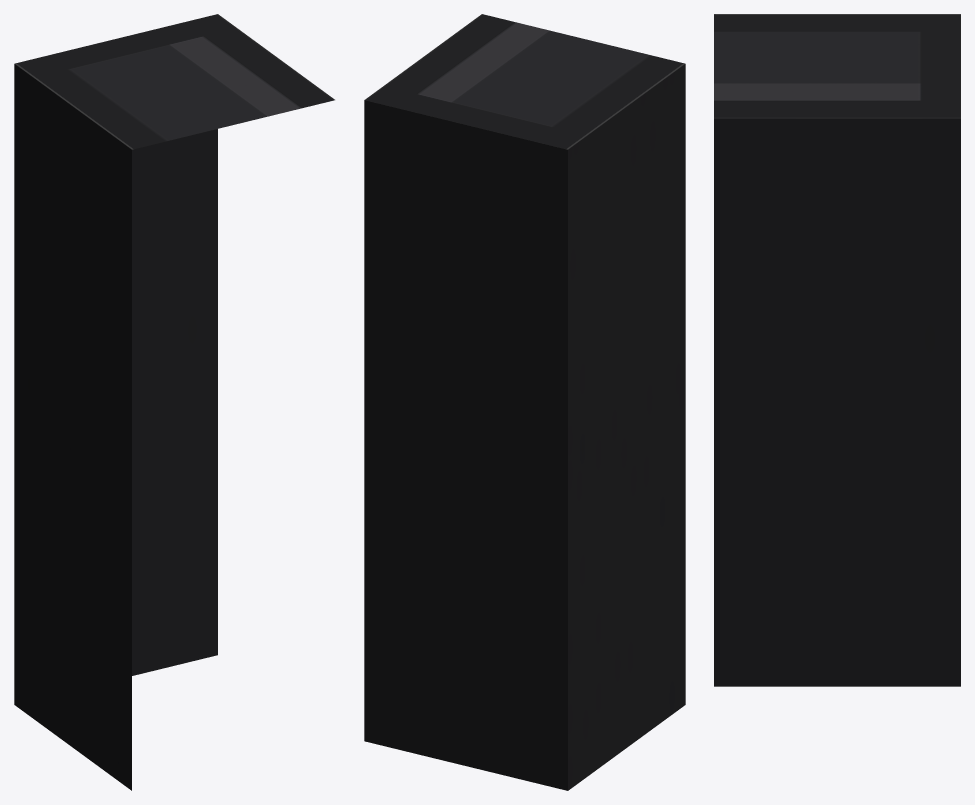
The model's file is env_sta_wall_corner_02.fbx.
3 renders of one model, left to right at view 1: azimuth 30°, elevation 25°; view 2: azimuth 150°, elevation 25°; view 3: azimuth 270°, elevation 25°, orthographic. The views are drawn at different scales.
Parts seen in each view (by area): view 1: env_sta_wall_corner_02; view 2: env_sta_wall_corner_02; view 3: env_sta_wall_corner_02.
Boxes of the visible parts, x1,y1,x2,y2 form: env_sta_wall_corner_02: (14, 14, 334, 790); env_sta_wall_corner_02: (364, 14, 685, 790); env_sta_wall_corner_02: (714, 14, 960, 686).
Size of the model in its own units: 39.97 by 120 by 40.
Materials: 1 (1 with a texture image).
